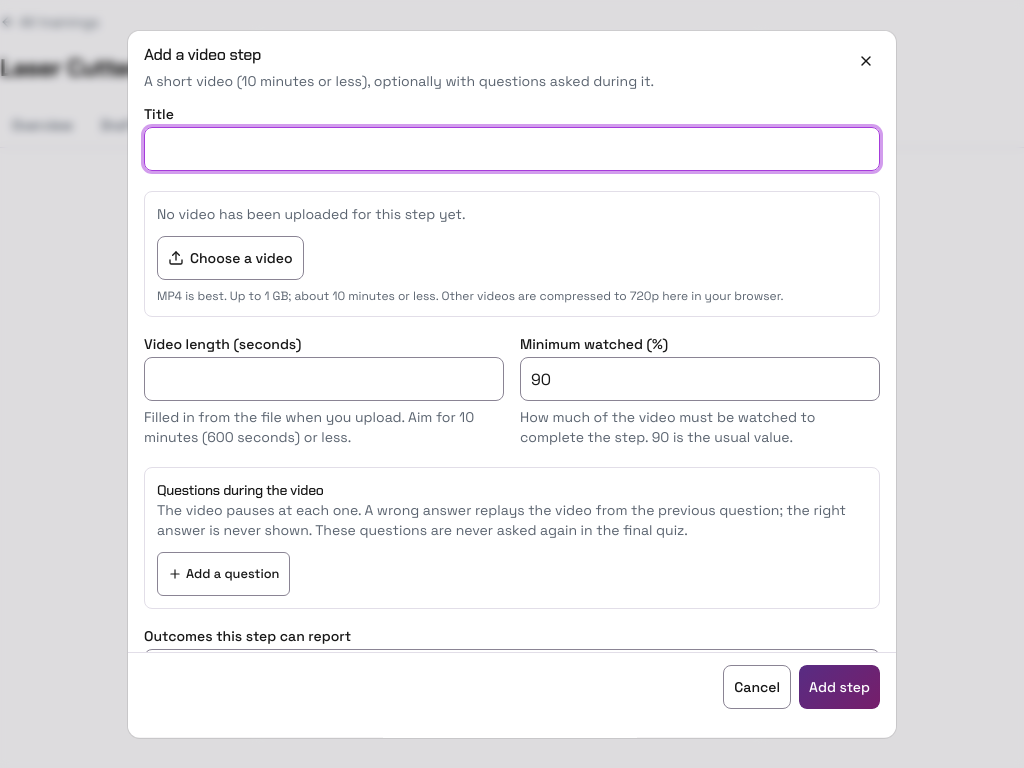
StepDialog video steps › shows each checkpoint problem beside its row and saves nothing
Expected: the heading "Laser Cutter" is shown, top-left (0, 52), bottom-right (138, 84)
In the field labelled "Title": (512, 149) top-left (144, 127), bottom-right (880, 171), type "Intro"
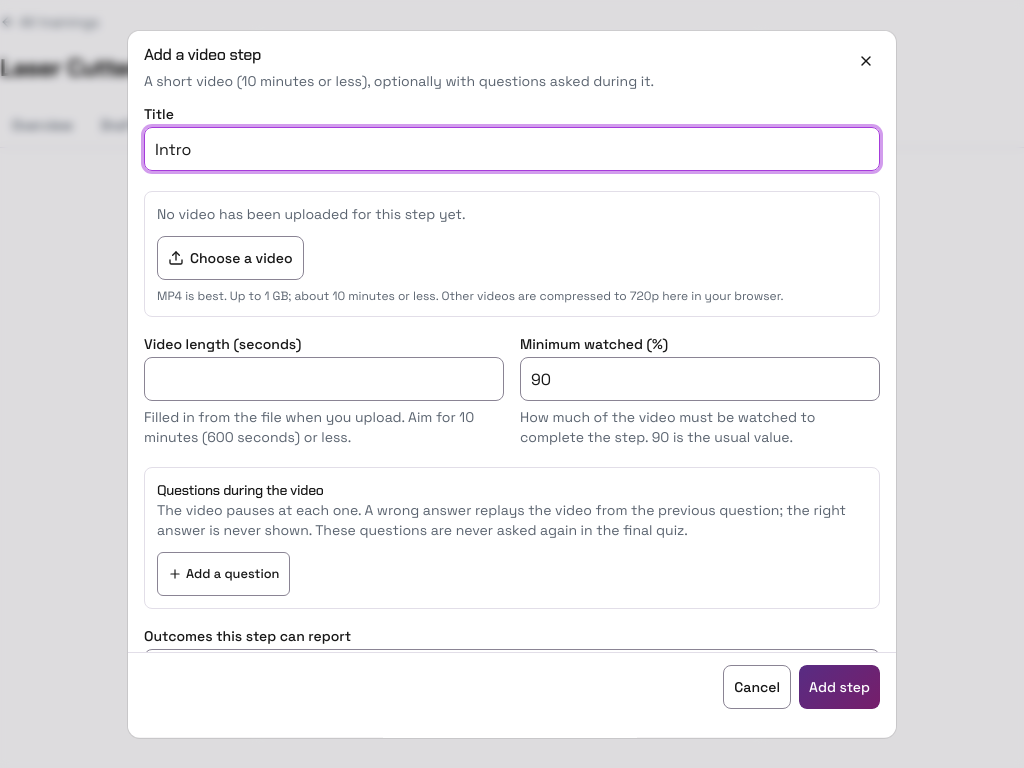
In the field labelled "Video length (seconds)": (324, 379) top-left (144, 357), bottom-right (504, 401), type "60"
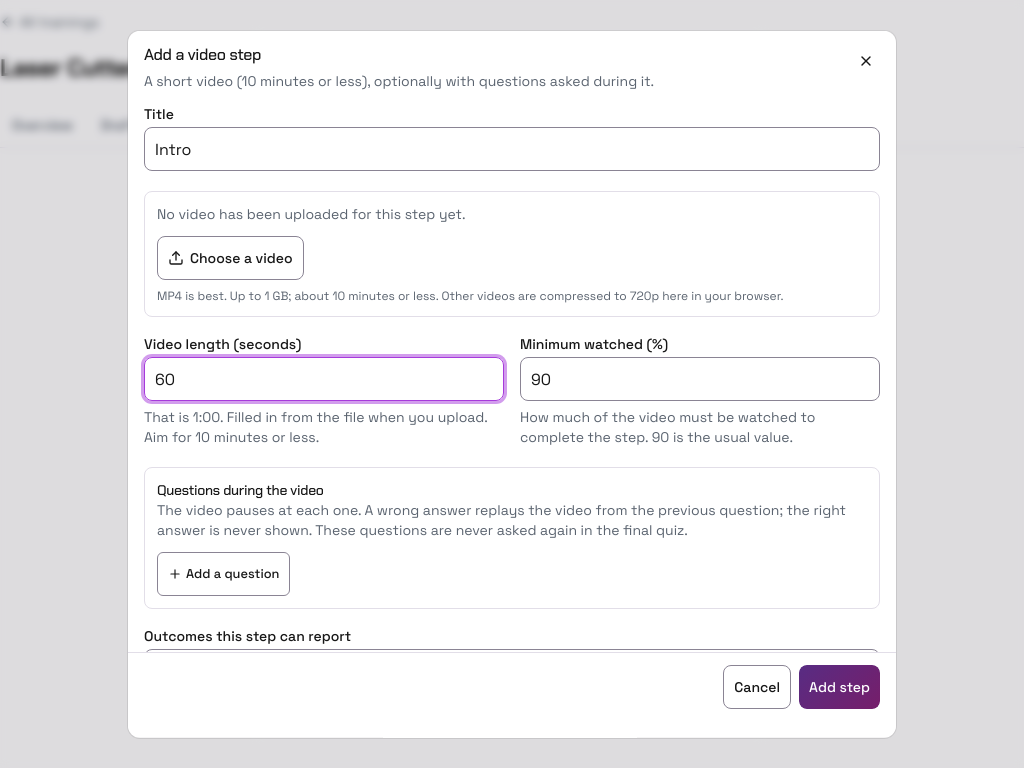
Click the button "Add a question": click(224, 574) top-left (157, 552), bottom-right (290, 596)
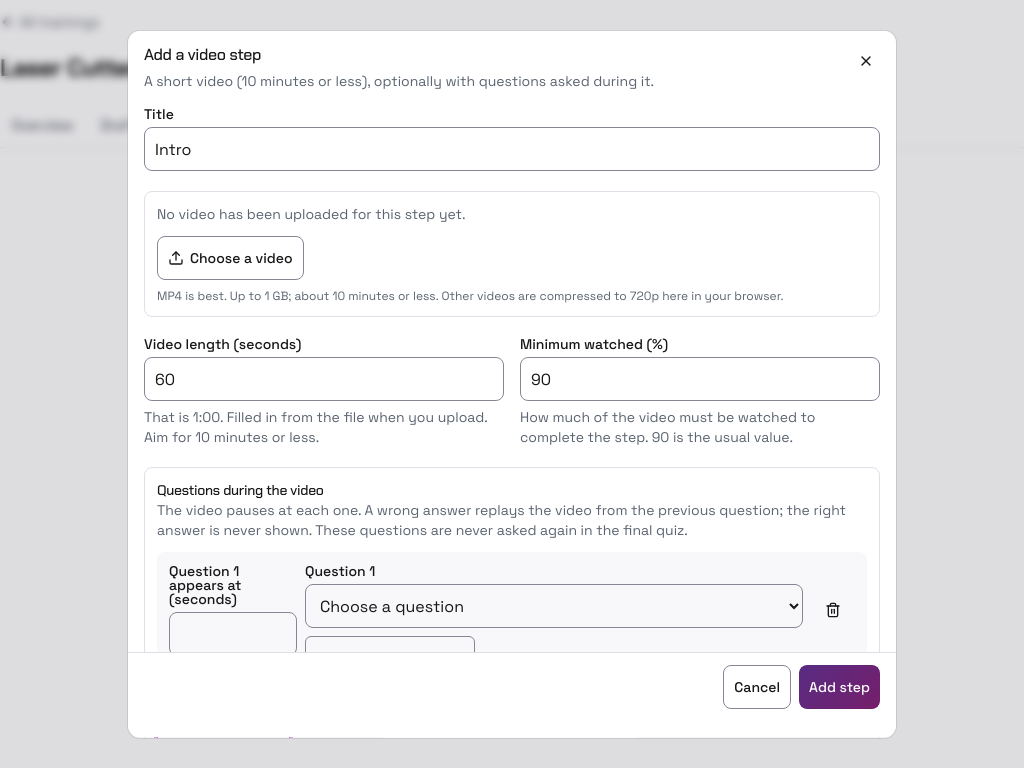
In the field labelled "Question 1 appears at (seconds)": (233, 634) top-left (169, 612), bottom-right (297, 656), type "90"
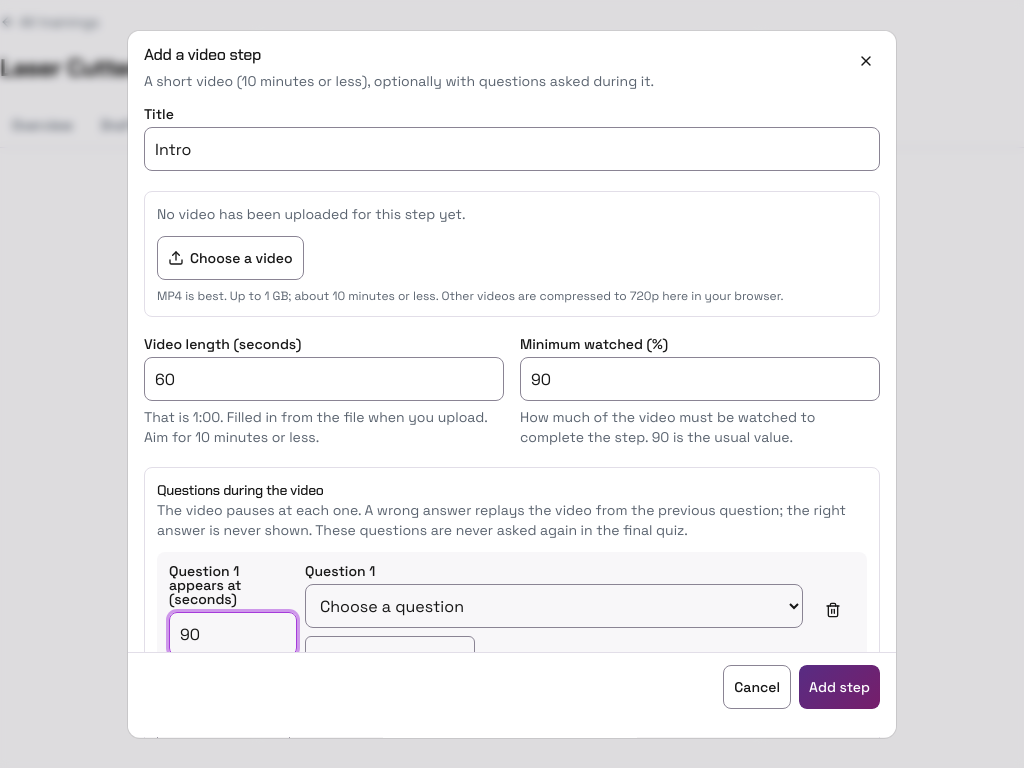
Click the button "Add step": click(840, 687) top-left (799, 665), bottom-right (880, 709)
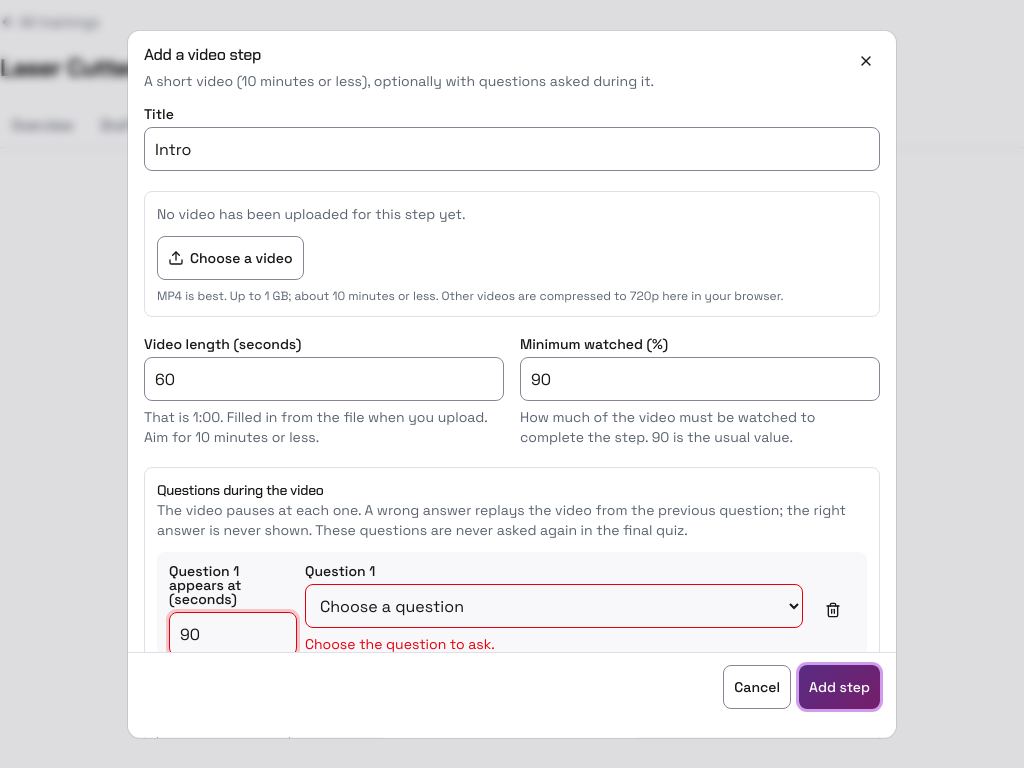
Expected: the text "Choose the question to ask." is shown, top-left (305, 635), bottom-right (495, 653)
